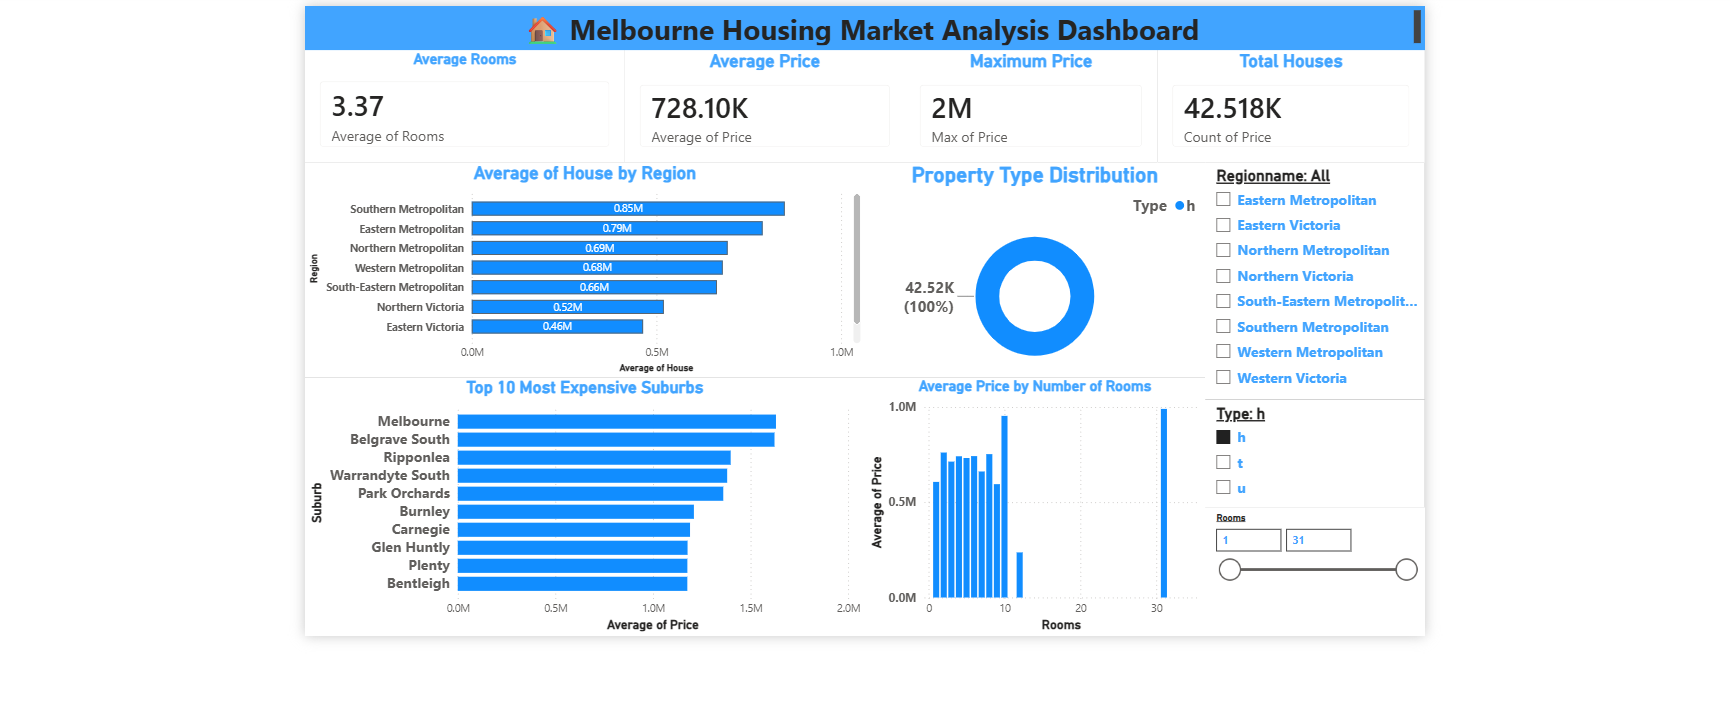

Layout of this report page (visuals, bound fields, positions):
{"tool":"powerbi","page":{"name":"Page 1","canvas":[1280,720],"ordinal":0},"visuals":[{"type":"cardVisual","title":"Average Rooms","fields":{"Data":["Avg(cleaned_MELBOURNE_housing.Rooms)"]},"box":[0,50,365.7,128.6],"z":0},{"type":"cardVisual","title":"Average Price","fields":{"Data":["Avg(cleaned_MELBOURNE_housing.Price)"]},"box":[365.7,50,320,128.6],"z":1000},{"type":"cardVisual","title":"Maximum Price","fields":{"Data":["Max(cleaned_MELBOURNE_housing.Price)"]},"box":[685.7,50,288.6,128.6],"z":2000},{"type":"cardVisual","title":"Total Houses","fields":{"Data":["CountNonNull(cleaned_MELBOURNE_housing.Price)"]},"box":[974.3,50,305.7,128.6],"z":3000},{"type":"clusteredBarChart","title":"Average of House by Region","fields":{"Category":["cleaned_MELBOURNE_housing.Regionname"],"Y":["Avg(cleaned_MELBOURNE_housing.Price)"]},"box":[0,178.6,640,245.7],"z":4000},{"type":"donutChart","title":"Property Type Distribution","fields":{"Category":["cleaned_MELBOURNE_housing.Type"],"Y":["CountNonNull(cleaned_MELBOURNE_housing.Type)"]},"box":[640,178.6,388.6,245.7],"z":5000},{"type":"clusteredBarChart","title":"Top 10 Most Expensive Suburbs","fields":{"Category":["cleaned_MELBOURNE_housing.Suburb"],"Y":["Avg(cleaned_MELBOURNE_housing.Price)"]},"box":[0,424.3,640,295.7],"z":6000},{"type":"clusteredColumnChart","title":"Average  Price by Number of Rooms","fields":{"Y":["Avg(cleaned_MELBOURNE_housing.Price)"],"Category":["cleaned_MELBOURNE_housing.Rooms"]},"box":[640,424.3,388.6,295.7],"z":7000},{"type":"textbox","box":[0,0,1280,50],"z":8000},{"type":"slicer","fields":{"Values":["cleaned_MELBOURNE_housing.Regionname"]},"box":[1028.6,178.6,251.4,271.4],"z":9000},{"type":"slicer","fields":{"Values":["cleaned_MELBOURNE_housing.Type"]},"box":[1028.6,450,251.4,122.9],"z":10000},{"type":"slicer","fields":{"Values":["cleaned_MELBOURNE_housing.Rooms"]},"box":[1028.6,572.9,251.4,147.1],"z":11000}]}

Visuals, with their boxes on the page's 1280x720 design canvas (x1, y1, x2, y2). These are canvas units, not pixel positions in the 1730x722 screenshot, which may show the page scaled, cropped or inside an application window:
"Average Rooms" cardVisual: 0,50,366,179
"Average Price" cardVisual: 366,50,686,179
"Maximum Price" cardVisual: 686,50,974,179
"Total Houses" cardVisual: 974,50,1280,179
"Average of House by Region" clusteredBarChart: 0,179,640,424
"Property Type Distribution" donutChart: 640,179,1029,424
"Top 10 Most Expensive Suburbs" clusteredBarChart: 0,424,640,720
"Average  Price by Number of Rooms" clusteredColumnChart: 640,424,1029,720
textbox: 0,0,1280,50
slicer - cleaned_MELBOURNE_housing.Regionname: 1029,179,1280,450
slicer - cleaned_MELBOURNE_housing.Type: 1029,450,1280,573
slicer - cleaned_MELBOURNE_housing.Rooms: 1029,573,1280,720
